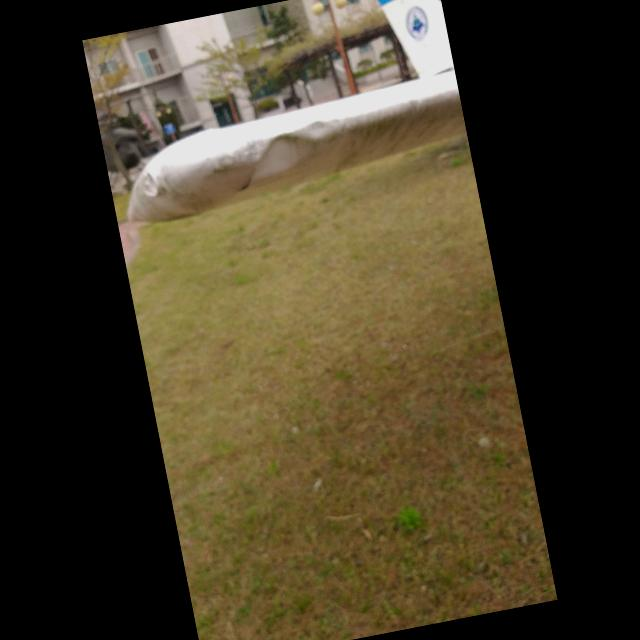dent: (235, 123, 324, 186), (302, 116, 334, 142)
